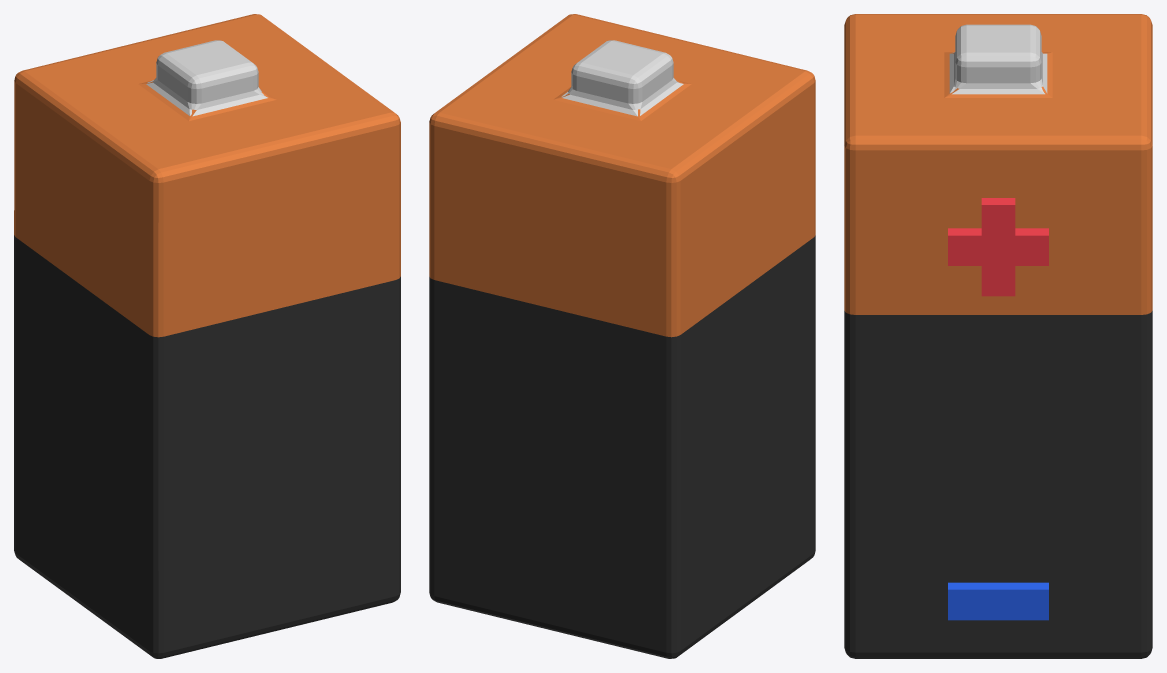
The model's file is battery.fbx.
3 views of the same model, side by side, from view 1: azimuth 30°, elevation 25°; view 2: azimuth 150°, elevation 25°; view 3: azimuth 270°, elevation 25° (orthographic). The views are drawn at different scales.
Visible parts, largest first — view 1: Battery; view 2: Battery; view 3: Battery, PlusSign, MinusSIgn.
Part boxes in pixels (x1,y1,x2,y2): Battery: [14, 14, 400, 658]; Battery: [429, 14, 815, 658]; Battery: [844, 14, 1152, 658]; PlusSign: [948, 198, 1048, 296]; MinusSIgn: [948, 582, 1048, 620].
Bounding box in the file's own units: 211 × 414 × 200.
